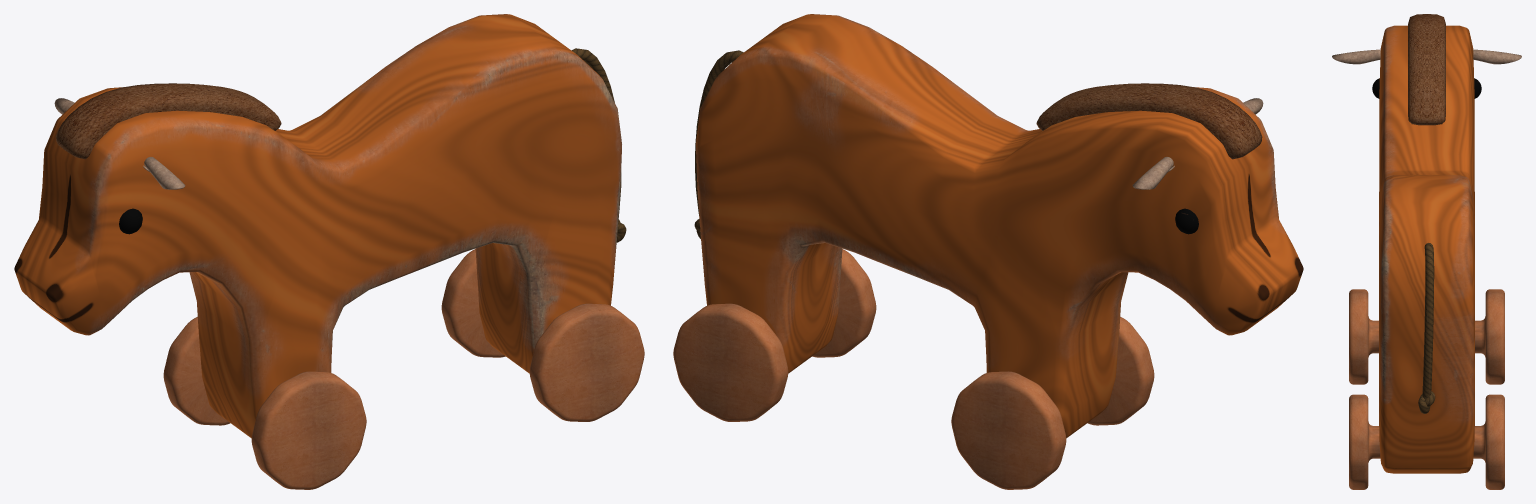
File: old_toy.obj
The picture shows the model from 3 angles, left to right: view 1: azimuth 30°, elevation 25°; view 2: azimuth 150°, elevation 25°; view 3: azimuth 270°, elevation 25°; orthographic projection. The views are drawn at different scales.
Visible parts, largest first — view 1: BezierCurve.001_BezierCurve.004; view 2: BezierCurve.001_BezierCurve.004; view 3: BezierCurve.001_BezierCurve.004.
Part boxes in pixels (box(x1,y1,x2,y2)): BezierCurve.001_BezierCurve.004: box(14, 14, 644, 489); BezierCurve.001_BezierCurve.004: box(673, 14, 1303, 489); BezierCurve.001_BezierCurve.004: box(1332, 14, 1521, 489).
Bounding box in the file's own units: 11.97 × 7.63 × 4.3.
